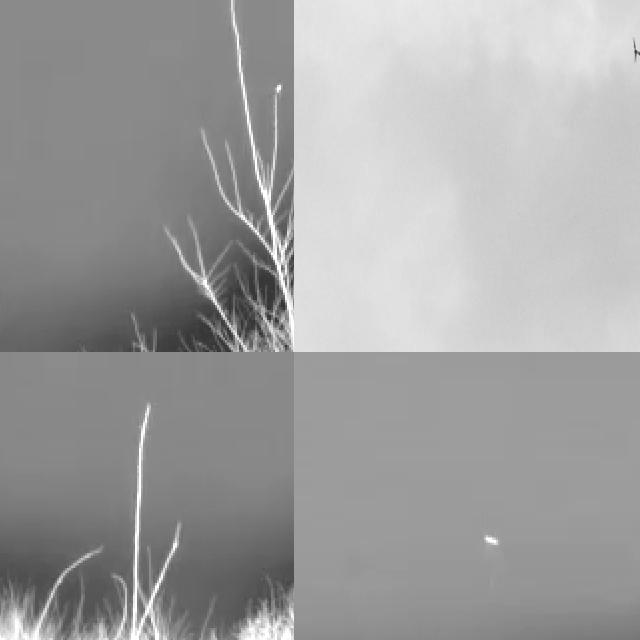0: (265, 76, 289, 102)
1: (474, 526, 510, 564)
drone: (626, 26, 640, 84)
